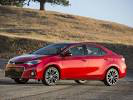car: (4, 42, 126, 84)
